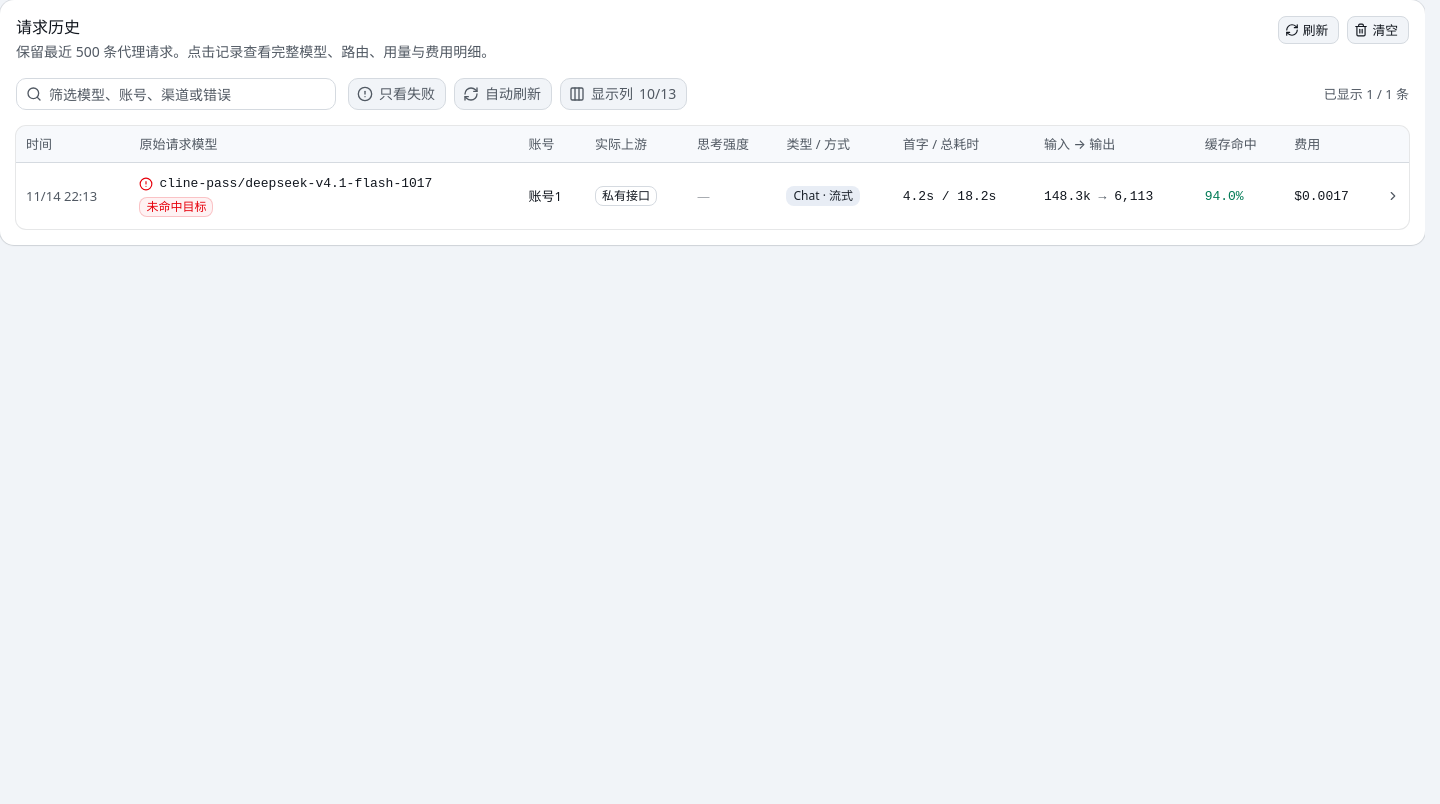
structured routing details replace only the duplicate generated mismatch error
This screenshot has width=1440, height=804.
Click the button named "查看请求详情" at [1393, 196], box [1381, 184, 1405, 208]
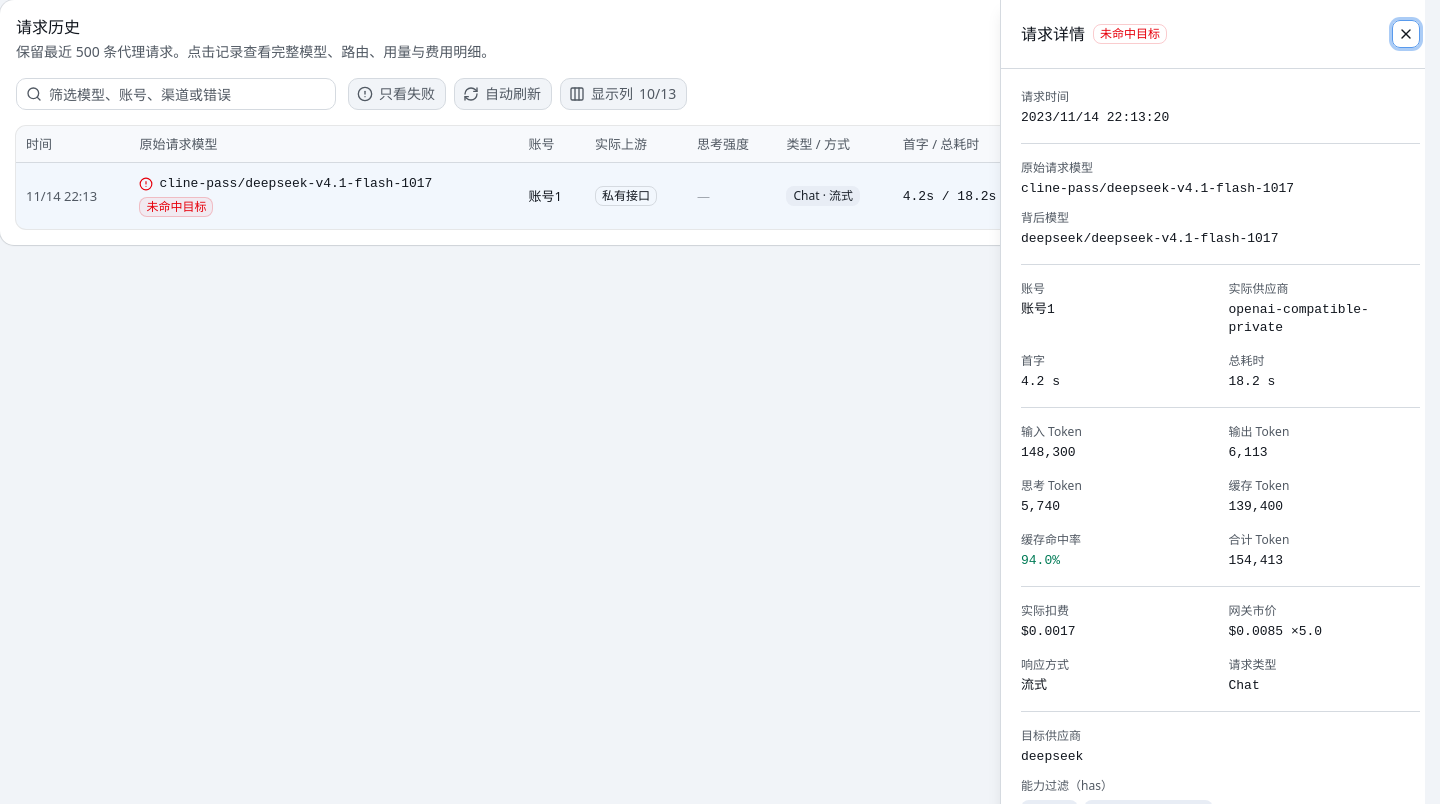
Expected: the text "openai-compatible-private" is shown once, [1228, 302, 1369, 335]
Expected: the text "deepseek" is shown, [1021, 749, 1083, 764]
